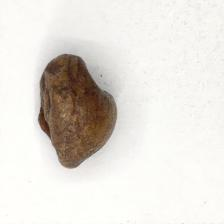NG: (39, 55, 116, 170)
